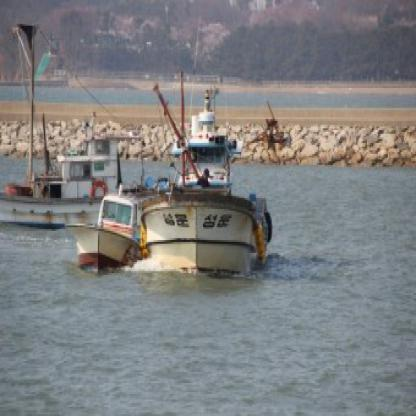fish-b: (144, 113, 278, 288), (0, 128, 150, 235), (60, 190, 143, 276)
